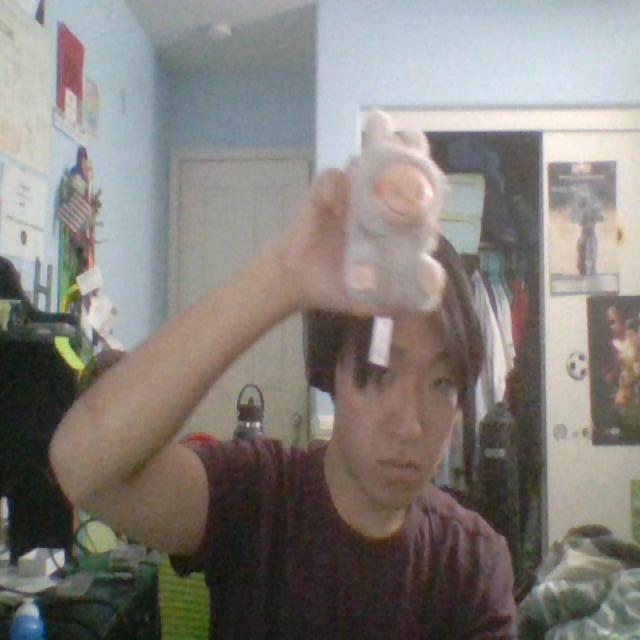labubu: (344, 111, 448, 311)
